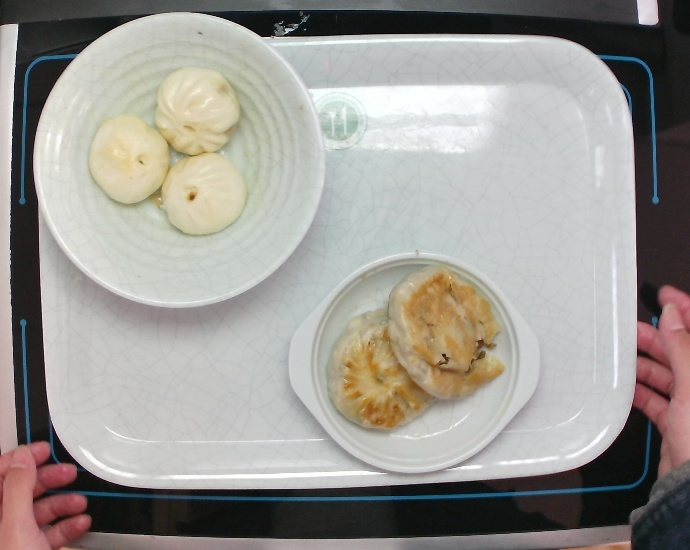JYsf-Shuang_Er_Pan: (284, 249, 547, 472)
JYsf-Xiao_Tang_Wan: (32, 8, 327, 310)
